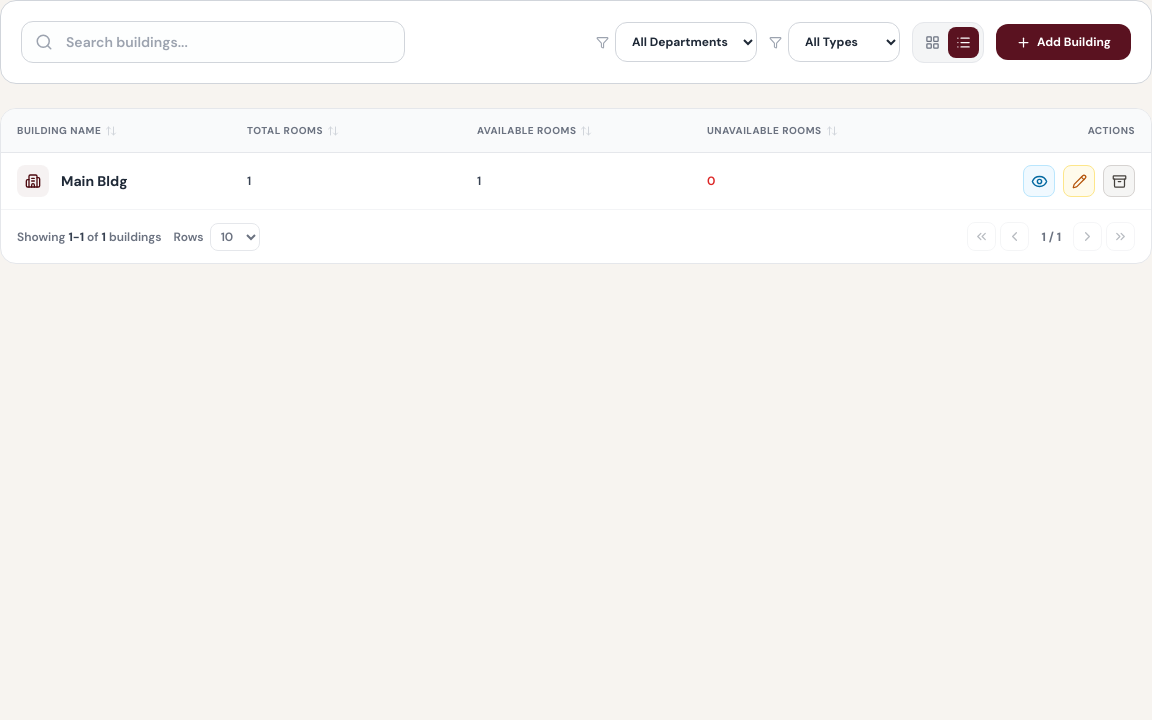
Scenario: Rooms component › edits room details without a status control or status write for available rooms
This screenshot has width=1152, height=720.
Click the text "Main Bldg" at point(94, 181), box left=61, top=171, right=128, bottom=191
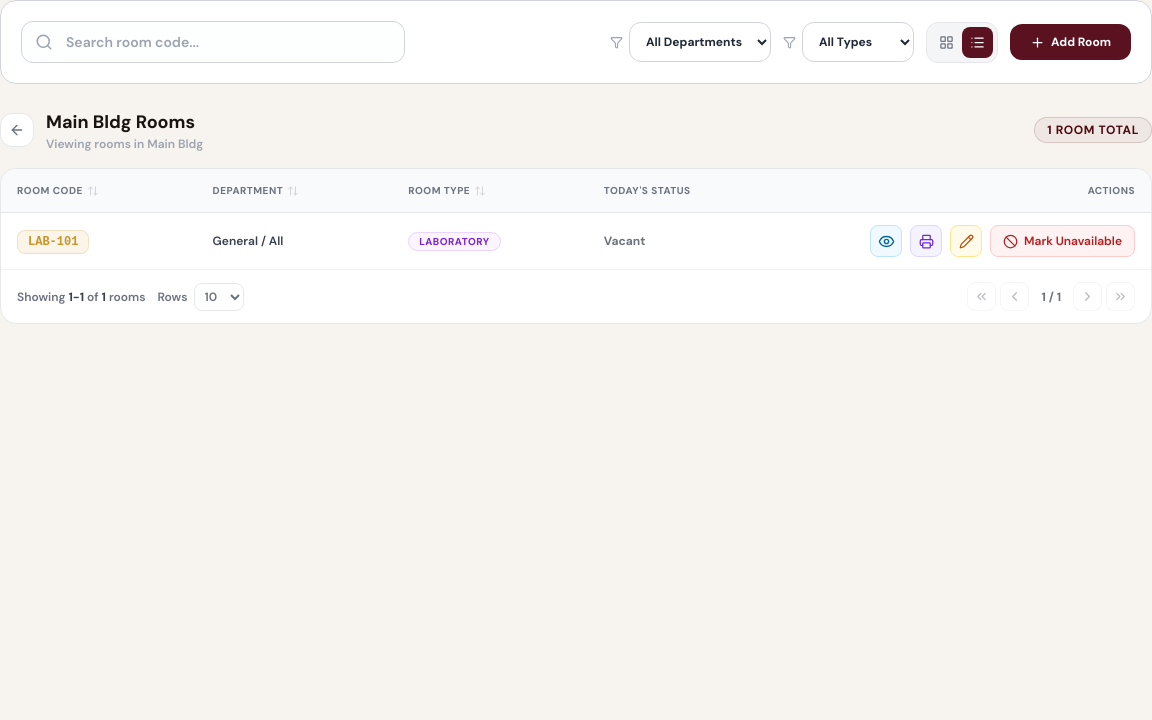
Click the button named "Edit Room" at point(966, 241), box left=950, top=225, right=982, bottom=257
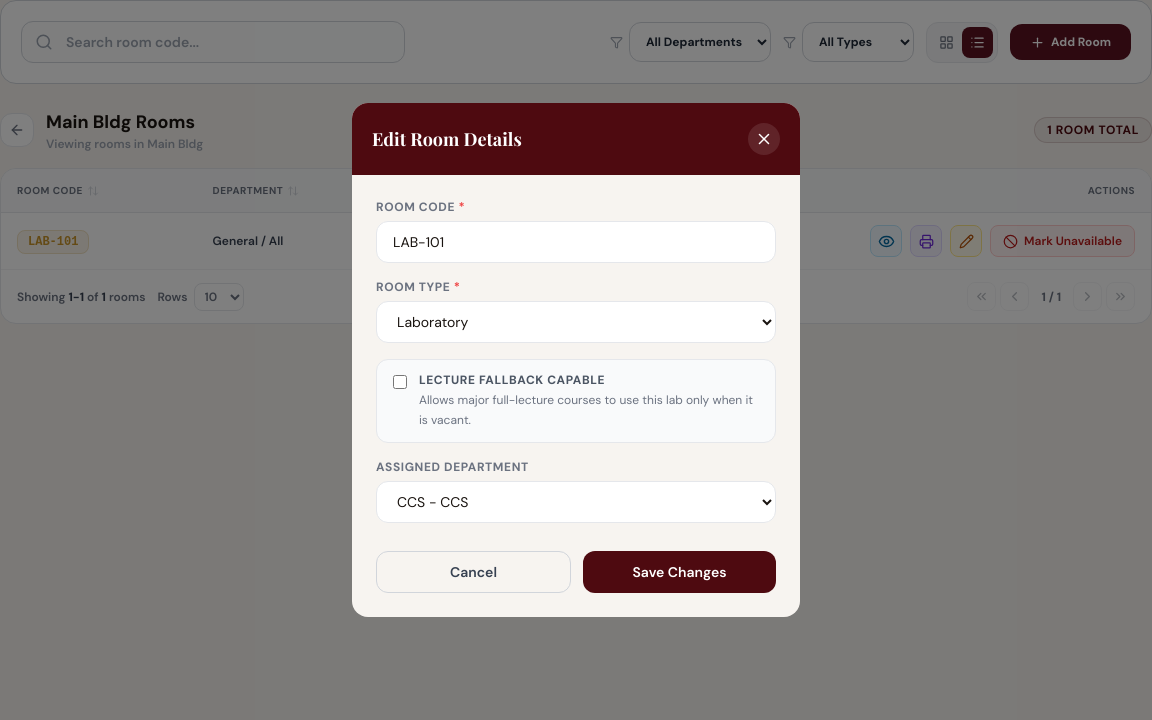
Now the heading "Edit Room Details" is shown, box left=372, top=125, right=522, bottom=153
Replace the text in the field showing "LAB-101" with "LAB-102" at point(576, 242), box left=376, top=221, right=776, bottom=263
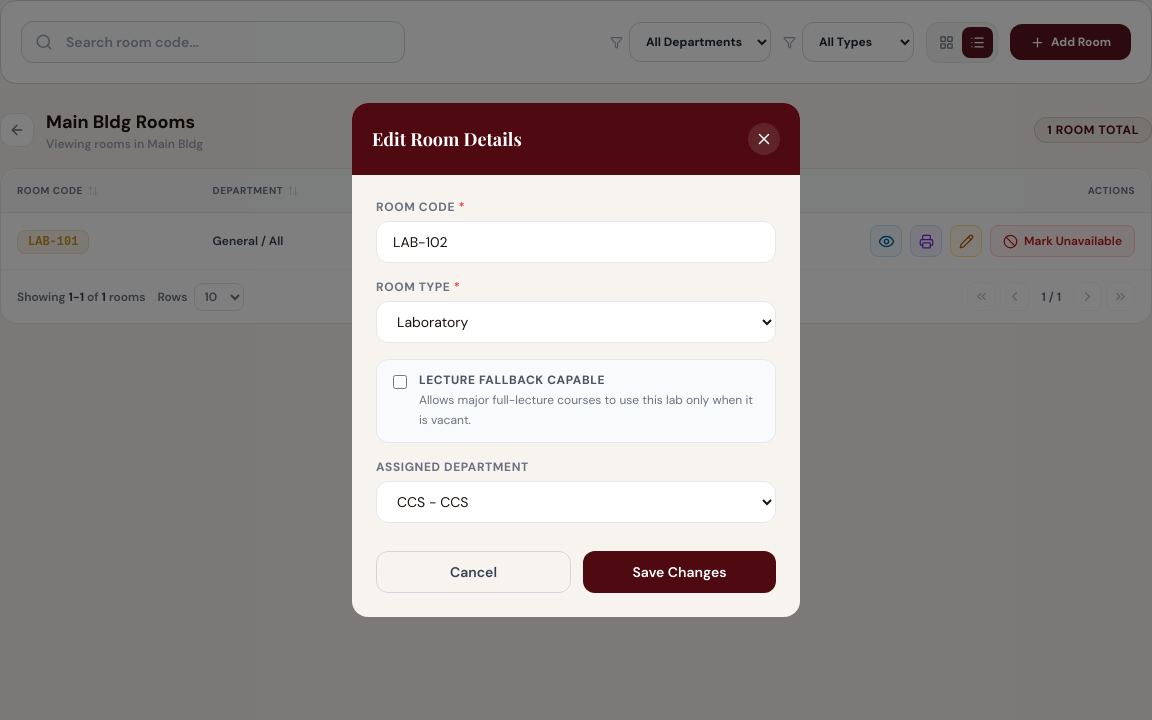
Click the button "Save Changes" at point(680, 572), box left=583, top=551, right=776, bottom=593
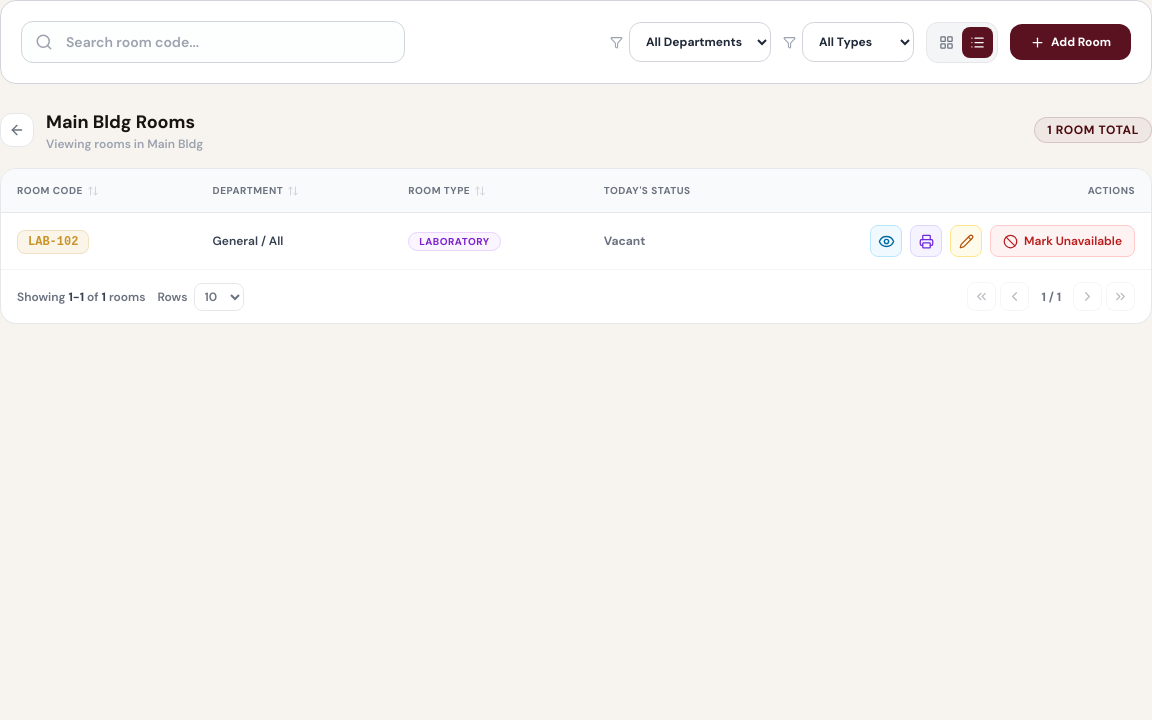
Now the button "Mark Unavailable" is shown, box left=990, top=225, right=1135, bottom=257
Now the heading "Edit Room Details" is gone
